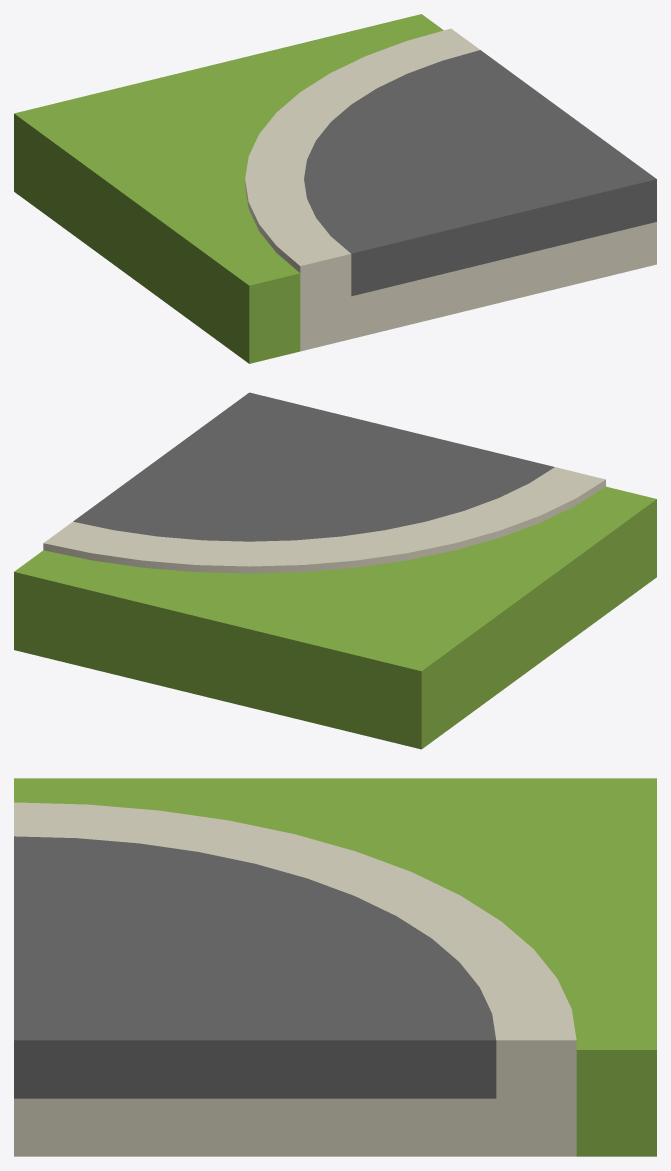
Rendered from road-one-way-curve-sidewalk-grass-3.obj.
3 views of the same model, one above another, from view 1: azimuth 30°, elevation 25°; view 2: azimuth 150°, elevation 25°; view 3: azimuth 270°, elevation 25° (orthographic). The views are drawn at different scales.
Visible parts, largest first — view 1: Mesh1_Group1_Model.053; view 2: Mesh1_Group1_Model.053; view 3: Mesh1_Group1_Model.053.
Boxes of the visible parts, <box> form: Mesh1_Group1_Model.053: <box>14,14,656,363</box>; Mesh1_Group1_Model.053: <box>14,392,656,749</box>; Mesh1_Group1_Model.053: <box>14,778,656,1156</box>.
Size of the model in its own units: 3 by 0.6 by 3.
